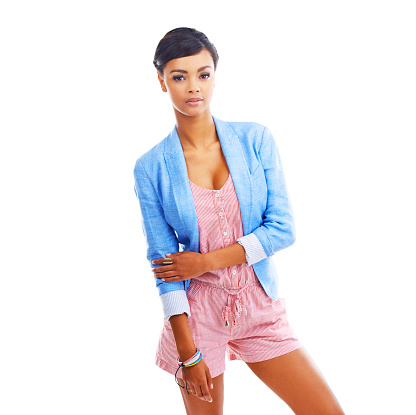em pe: (123, 30, 346, 415)
